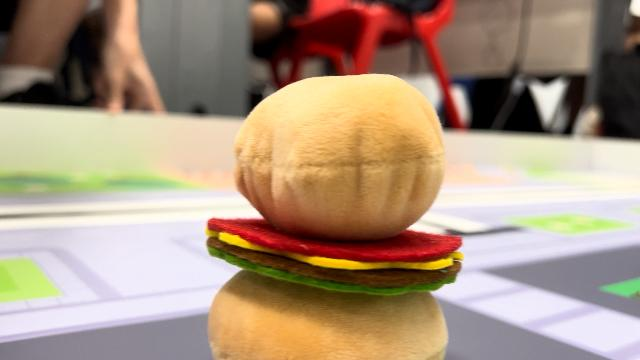burger: (206, 75, 463, 360)
